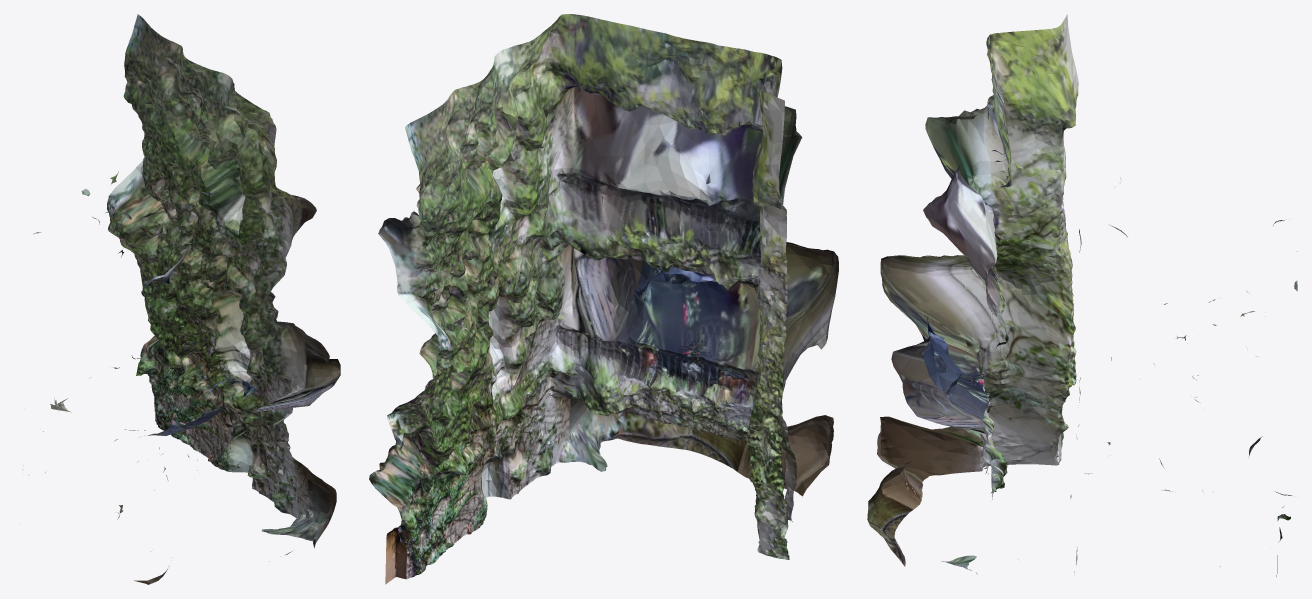
Rendered from S043_GreenBalconies.glb.
The picture shows the model from 3 angles, left to right: view 1: azimuth 30°, elevation 25°; view 2: azimuth 150°, elevation 25°; view 3: azimuth 270°, elevation 25°; orthographic projection. The views are drawn at different scales.
Visible parts, largest first — view 1: Mesh; view 2: Mesh; view 3: Mesh.
Part boxes in pixels (x1,y1,x2,y2): Mesh: (20,14,340,584); Mesh: (369,14,838,584); Mesh: (867,14,1297,576).
Bounding box in the file's own units: 0.7329 × 1.1 × 0.9813.
1 material, 1 textured.
